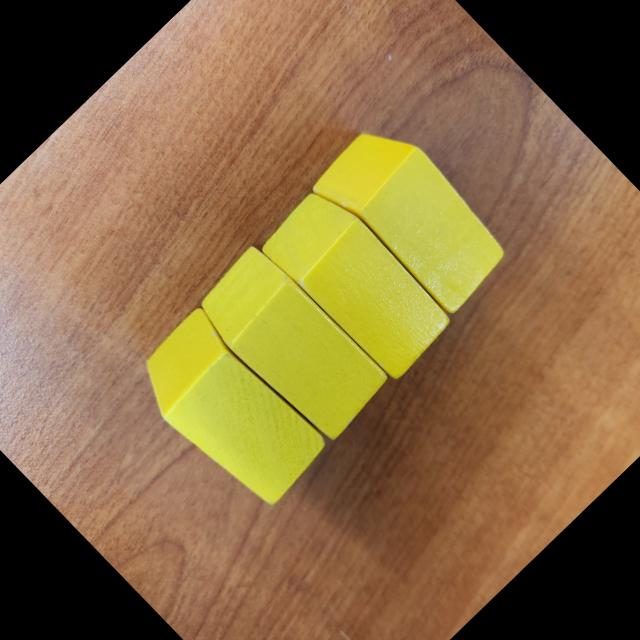yellow: (124, 304, 340, 520), (305, 110, 520, 327), (188, 238, 395, 448), (255, 178, 462, 388)
